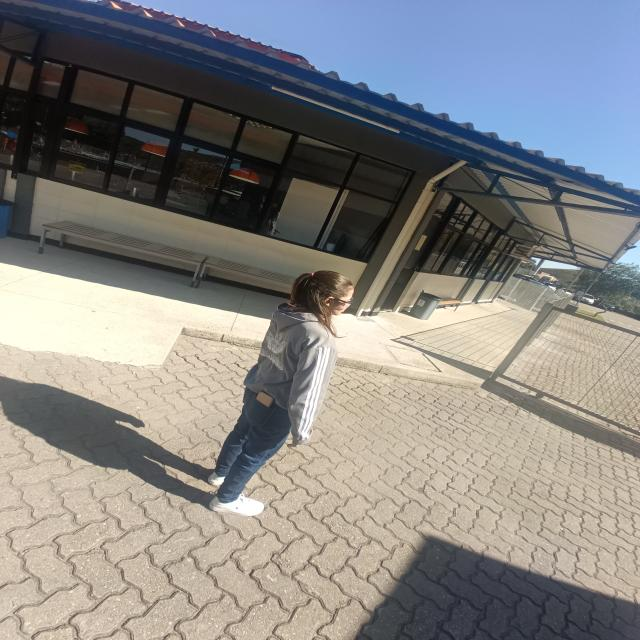oculos-epi: (327, 296, 354, 307)
